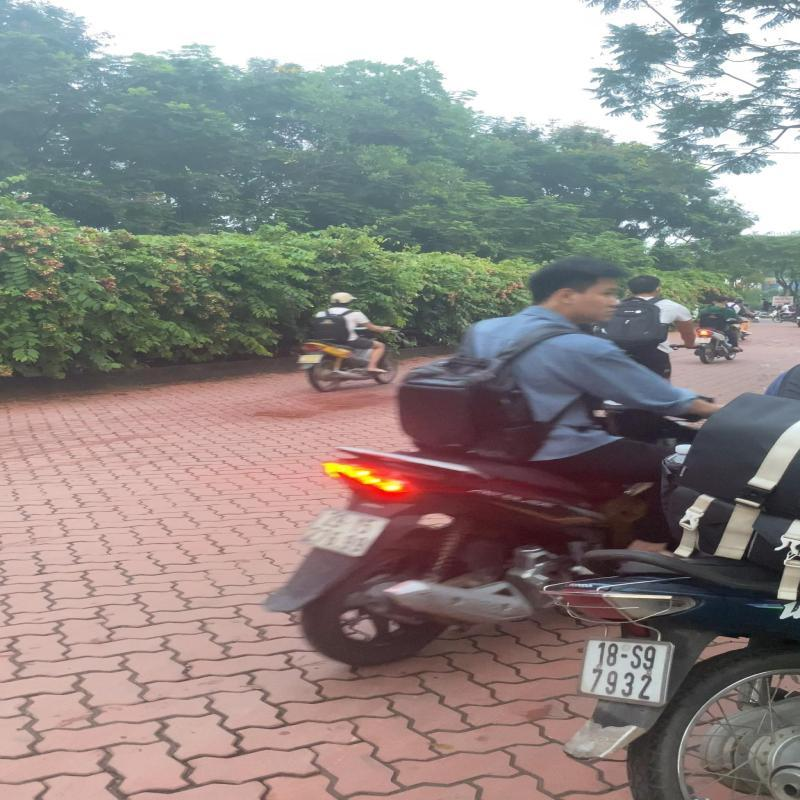licenseplate: (303, 508, 390, 558)
motorcyclist: (261, 260, 799, 669)
nohelmet: (530, 262, 630, 324)
